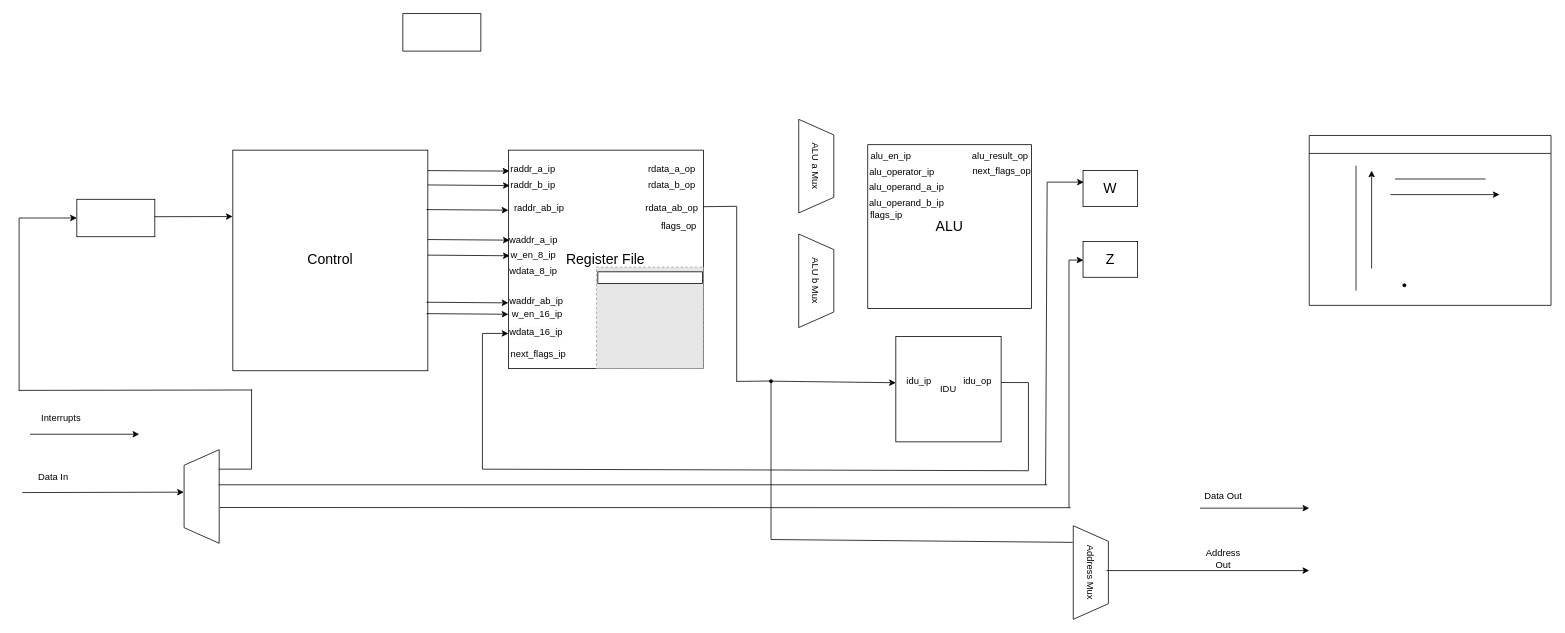
This 1565x633 diagram has some shape labels left out. Grey dashed boxes stand in for pictures. Here are the shapes that lost their labels. From the top down, the centre of each, then its label:
the point at 441,32: Interupt Enable
the point at 115,218: Instruction Register
the point at 1429,220: Copy Box
the point at 201,496: Data De-Mux
